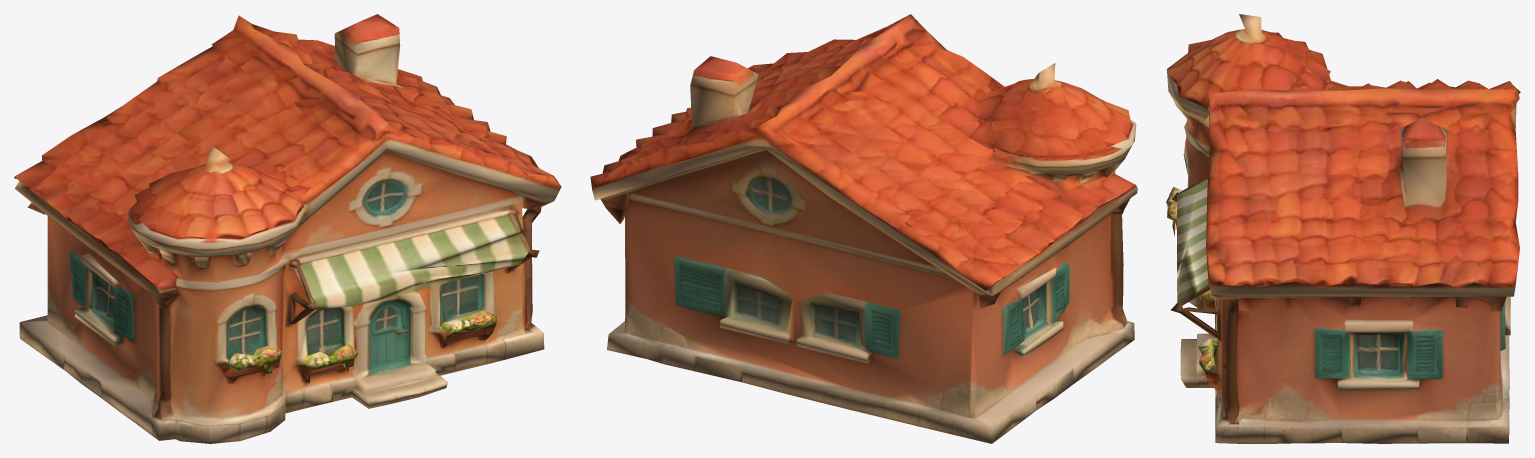
File: market-coral-BQTDLhLu.glb
The picture shows the model from 3 angles, left to right: view 1: azimuth 30°, elevation 25°; view 2: azimuth 150°, elevation 25°; view 3: azimuth 270°, elevation 25°; orthographic projection. The views are drawn at different scales.
Parts seen in each view (by area): view 1: market-coral; view 2: market-coral; view 3: market-coral.
Boxes of the visible parts, x1,y1,x2,y2 form: market-coral: (14, 14, 561, 443); market-coral: (590, 14, 1137, 443); market-coral: (1166, 14, 1520, 443).
Bounding box in the file's own units: 10.5 × 6.7 × 7.6.
Materials: 1 (1 with a texture image).
